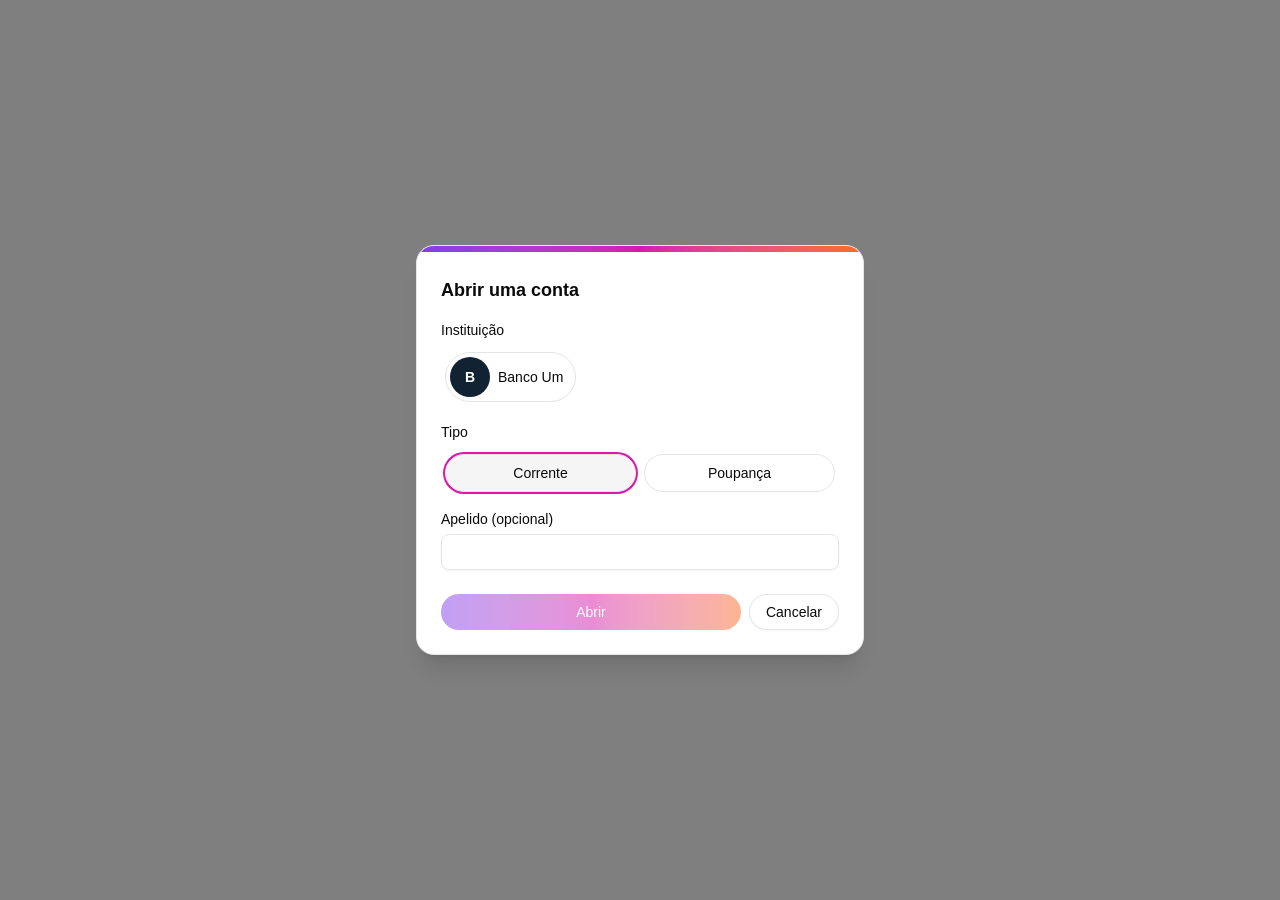
Test: abrir conta › limite de contas mostra a mensagem propria
This screenshot has width=1280, height=900.
O banco virou escolha por logo, como no formulario de contato.
Click the radio button labelled "B Banco Um".
click(511, 377)  # box [445,352,576,402]
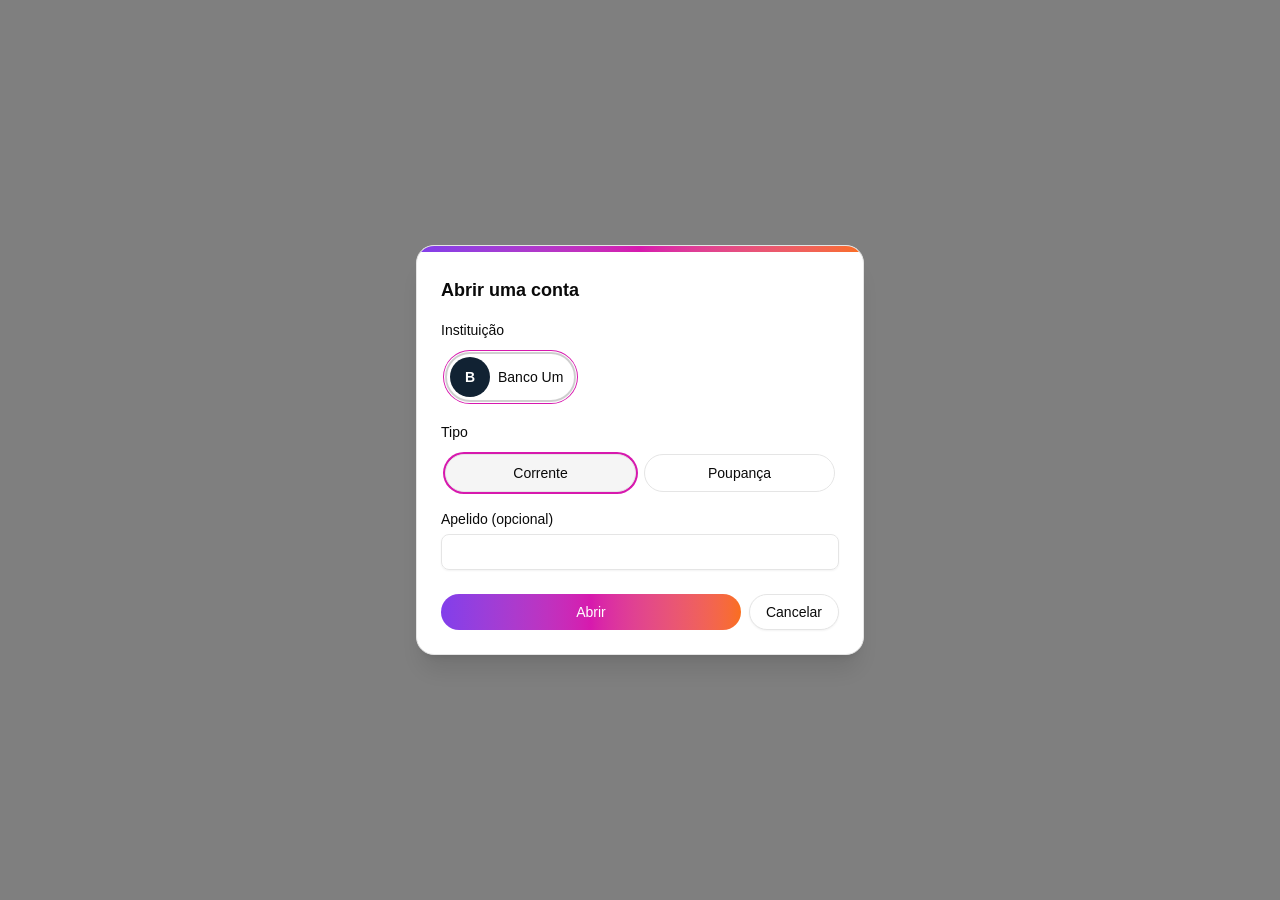
Click the button "Abrir".
click(591, 612)  # box [441,594,741,630]
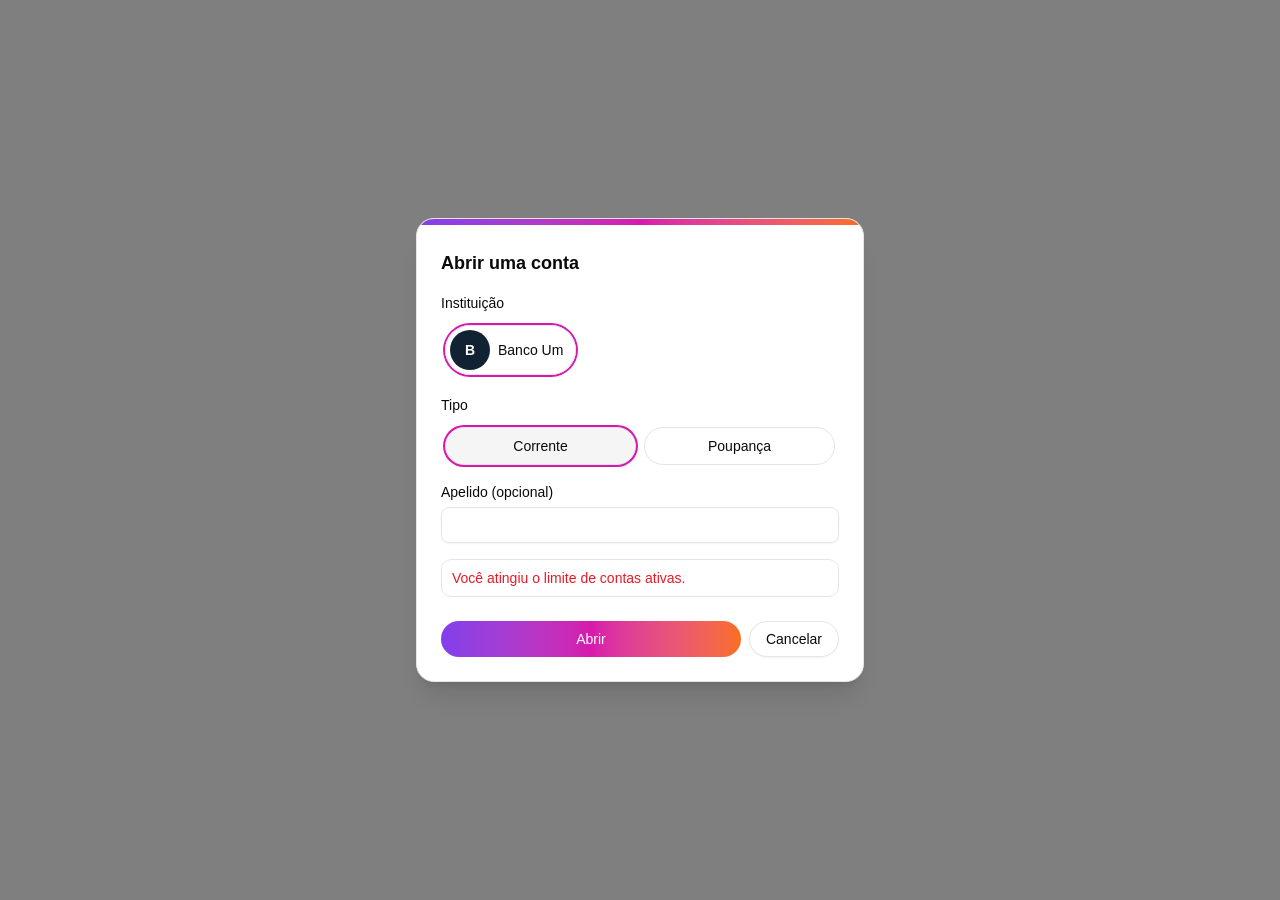
Check: the message reads "Você atingiu o limite de contas ativas.", box [452,570,686,586]
